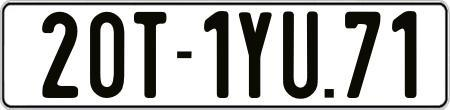0: (87, 9, 125, 98)
1: (390, 10, 420, 97), (202, 9, 226, 101)
2: (42, 11, 83, 103)
7: (345, 12, 385, 104)
T: (134, 10, 166, 102)
U: (282, 8, 321, 97)
Y: (238, 10, 272, 100)
